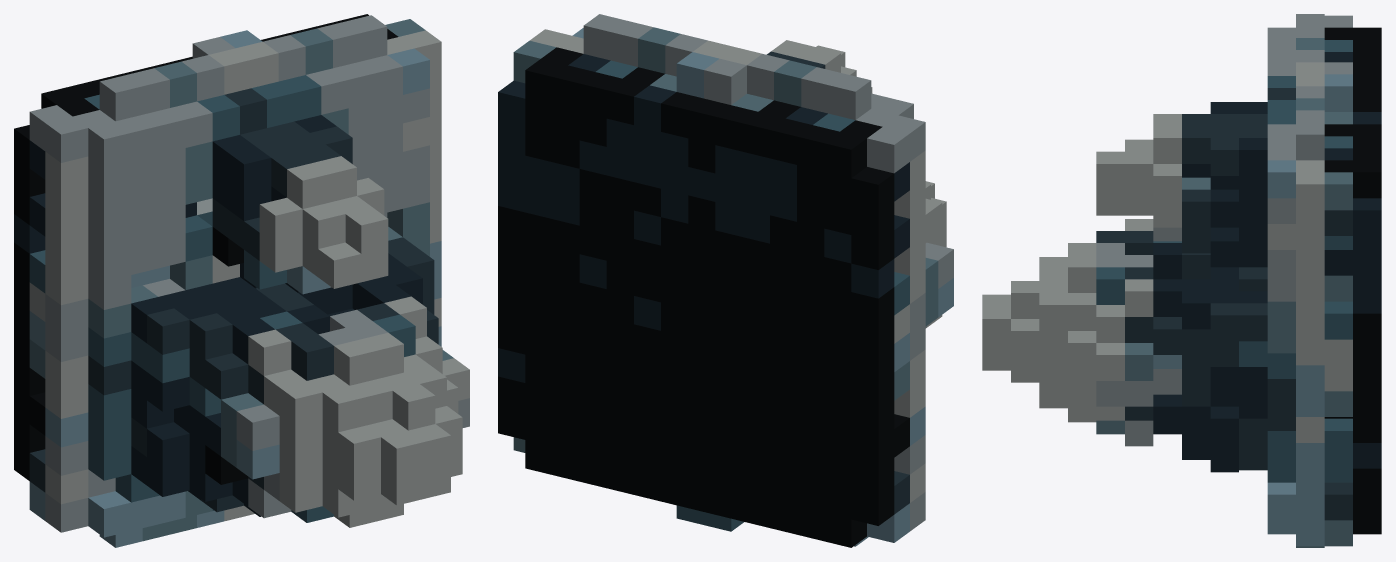
Rendered from snow_mountain_ours.glb.
3 views of the same model, side by side, from view 1: azimuth 30°, elevation 25°; view 2: azimuth 150°, elevation 25°; view 3: azimuth 270°, elevation 25° (orthographic). The views are drawn at different scales.
Visible parts, largest first — view 1: snow_mountain_50_gumbel; view 2: snow_mountain_50_gumbel; view 3: snow_mountain_50_gumbel.
Part boxes in pixels (x1,y1,x2,y2): snow_mountain_50_gumbel: (14, 14, 469, 547); snow_mountain_50_gumbel: (498, 14, 953, 547); snow_mountain_50_gumbel: (982, 14, 1381, 547).
Bounding box in the file's own units: 14 × 16 × 14.
